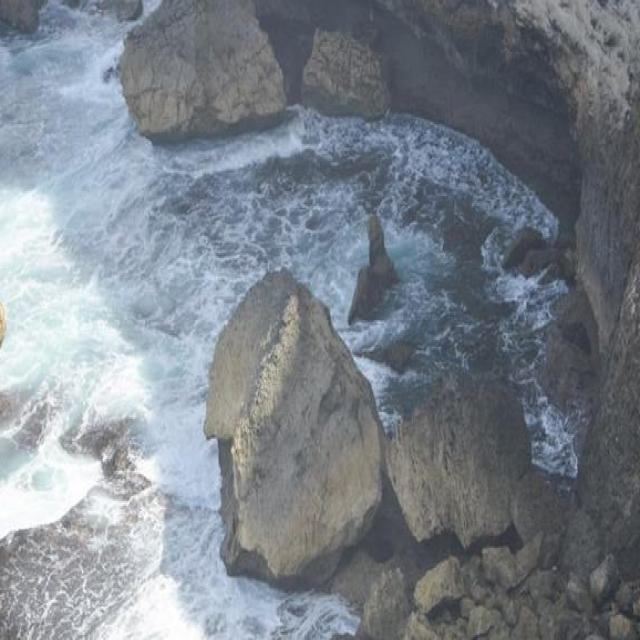reef: (210, 281, 538, 624)
